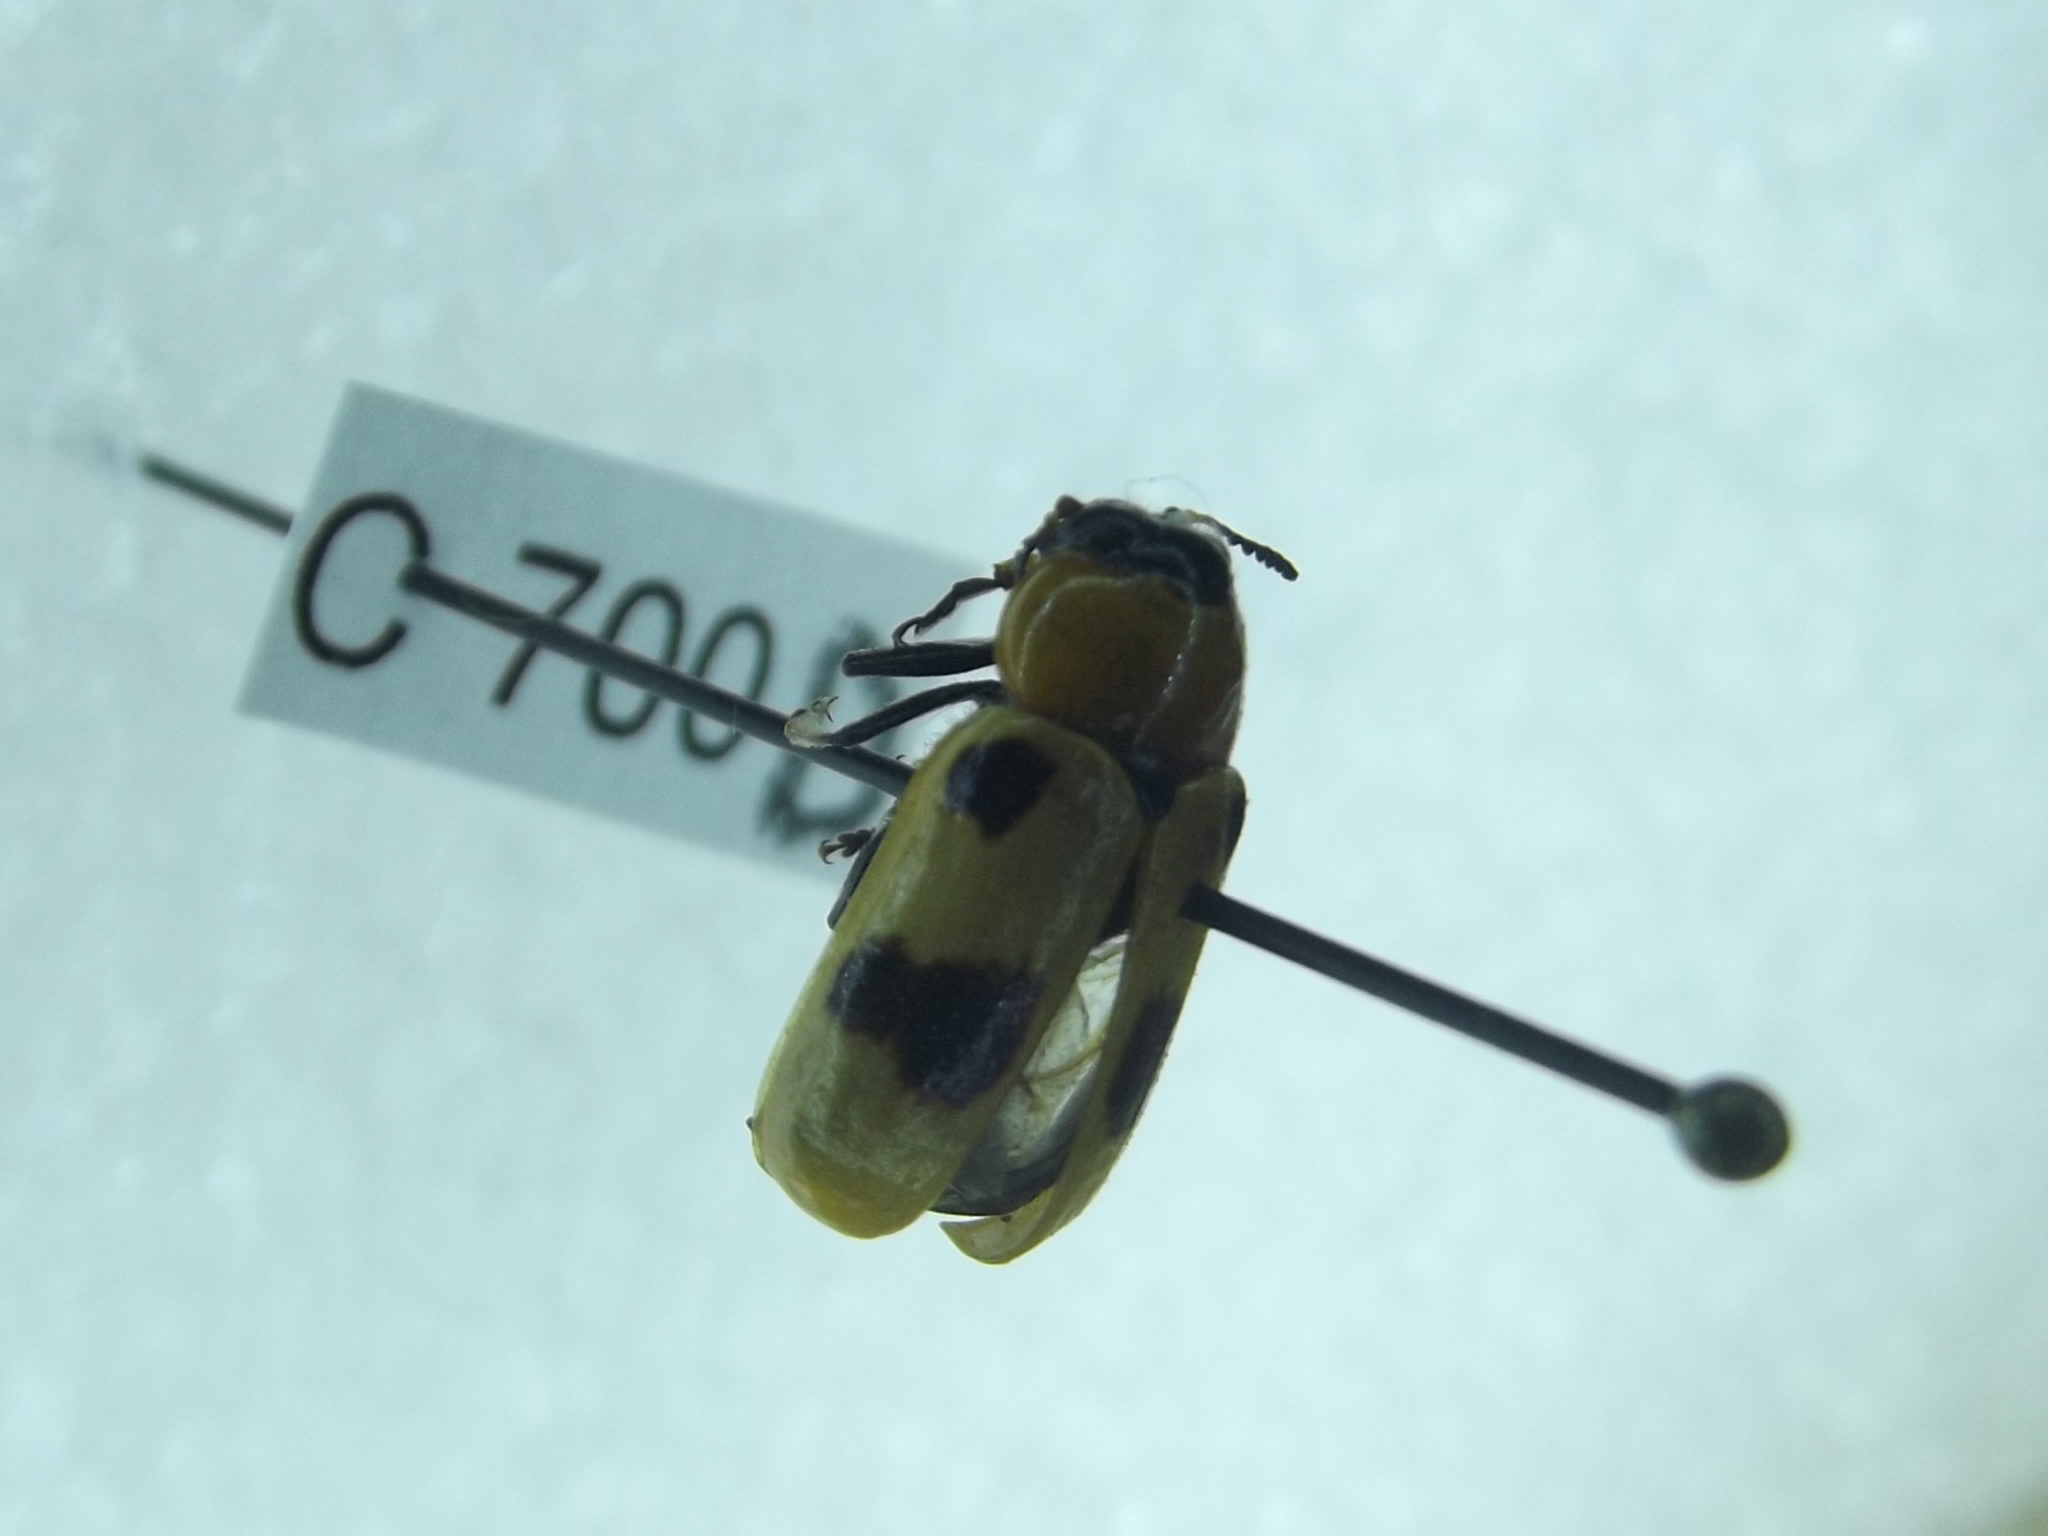Tituboea_macropus: (742, 478, 1298, 1270)
